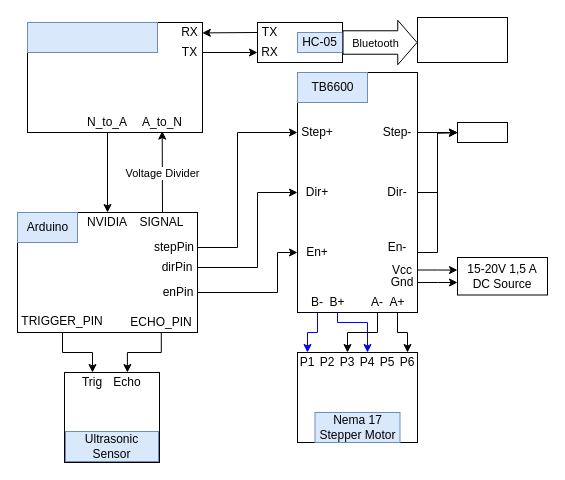
The diagram is 565 pixels wide and 480 high, and some of its shapes have lost their labels. Each missing label, with the centre of its shape:
"Ground" belongs at (482,132).
"NVIDIA Jetson Nano" belongs at (92,37).
"Phone" belongs at (462,39).
